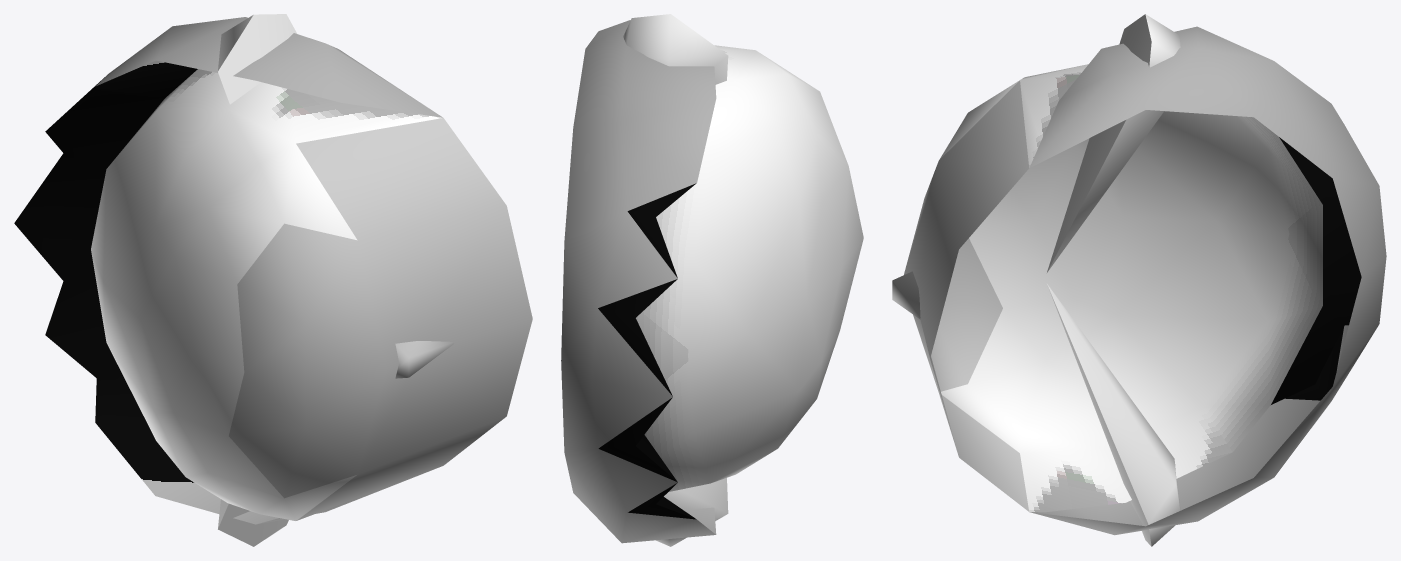
Rendered from boy14b.dae.
The picture shows the model from 3 angles, left to right: view 1: azimuth 30°, elevation 25°; view 2: azimuth 150°, elevation 25°; view 3: azimuth 270°, elevation 25°; orthographic projection.
Visible parts, largest first — view 1: vsn_mesh_1_, vsn_mesh_0_, vsn_mesh_2_; view 2: vsn_mesh_1_; view 3: vsn_mesh_1_, vsn_mesh_0_, vsn_mesh_2_.
Boxes of the visible parts, x1,y1,x2,y2 form: vsn_mesh_1_: (14,14,443,546); vsn_mesh_0_: (296,118,532,520); vsn_mesh_2_: (229,223,386,498); vsn_mesh_1_: (561,14,863,546); vsn_mesh_1_: (939,14,1386,546); vsn_mesh_0_: (892,80,1028,511); vsn_mesh_2_: (904,163,1002,391).
Bounding box in the file's own units: 15.5 × 26.71 × 22.74.
